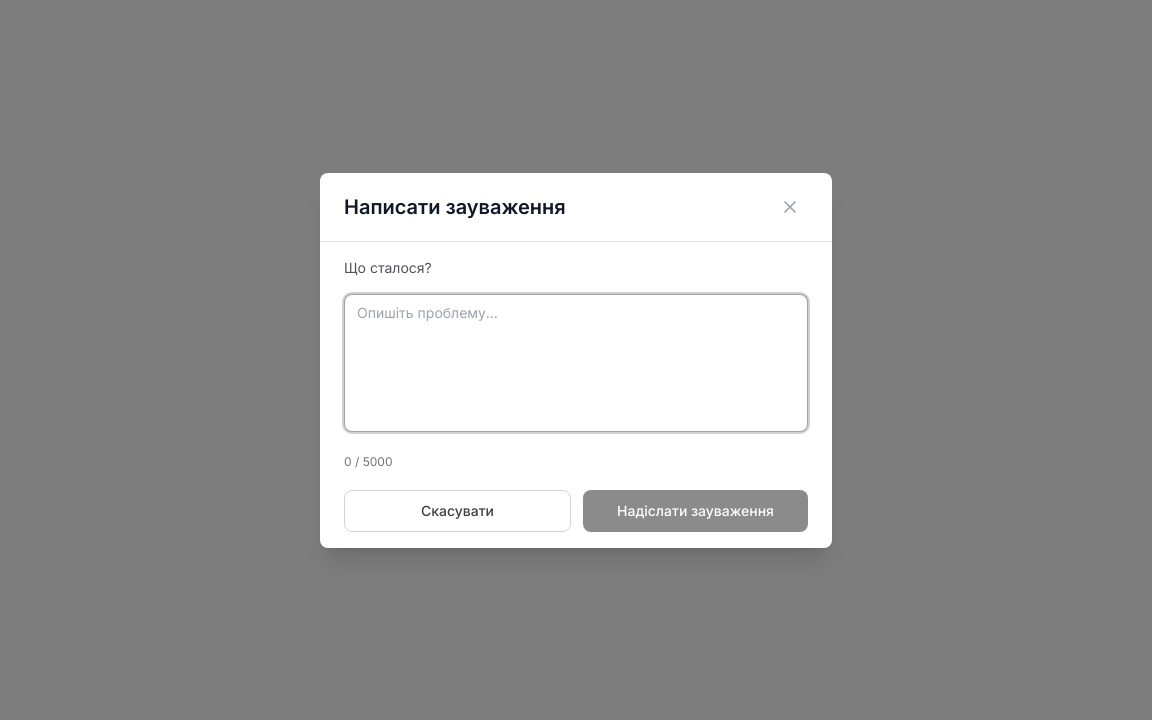
SupportContactForm › validation › submit button is enabled when message has at least 3 characters
Type "abc" into the text box with placeholder "Опишіть проблему…" at {"x": 576, "y": 362}, box [344,294,808,432]
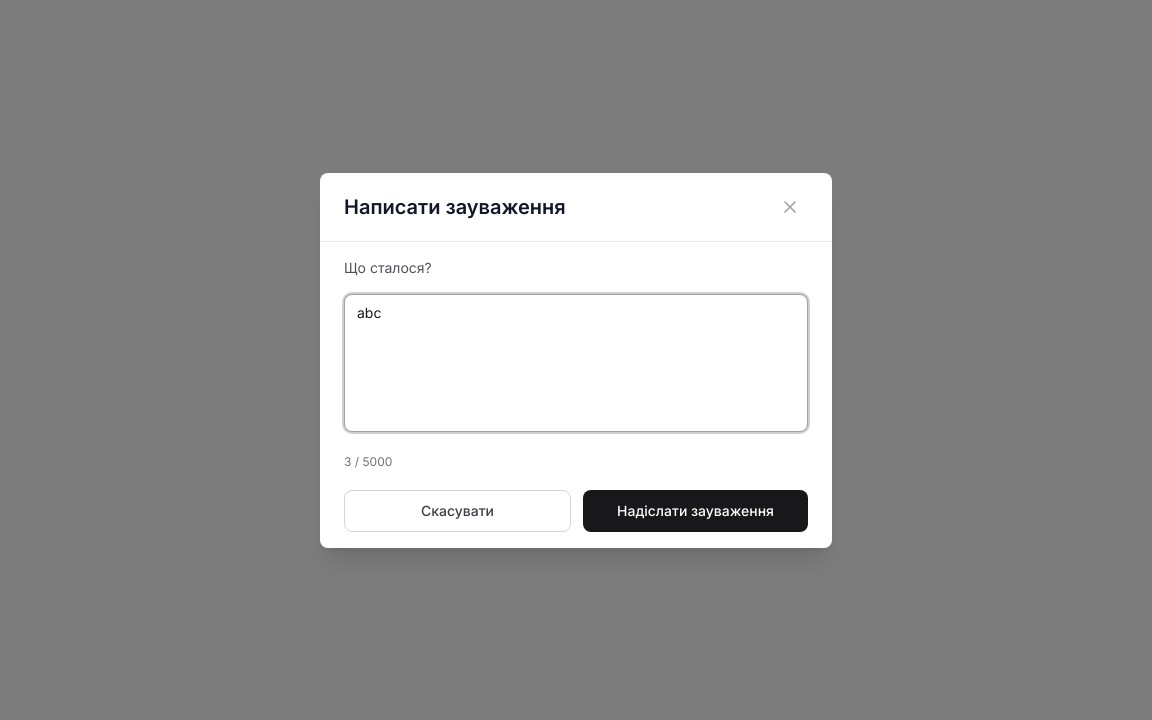
Now the button "Надіслати зауваження" is enabled, box [583,490,808,532]
